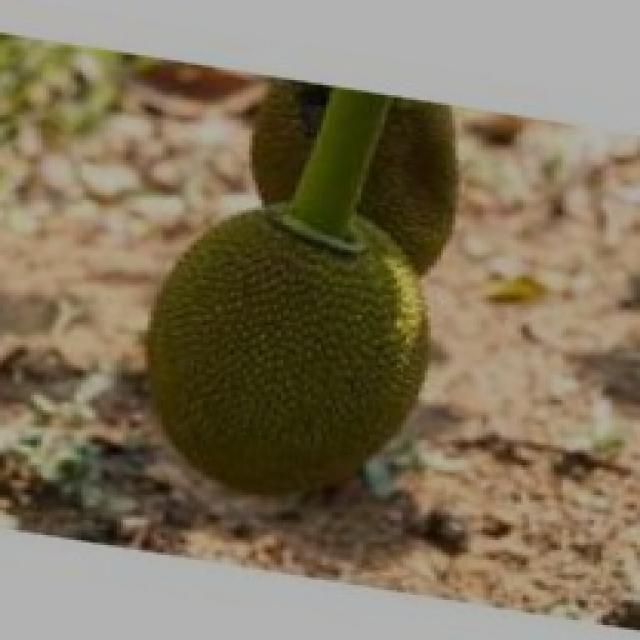Fruit: (120, 182, 468, 520)
